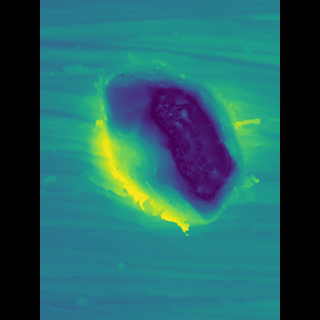Loch: (96, 51, 234, 240)
